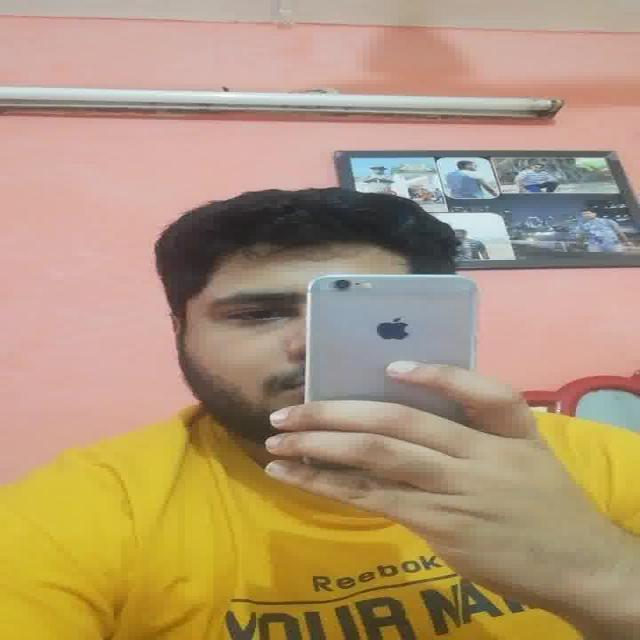Phone: (302, 270, 481, 402)
